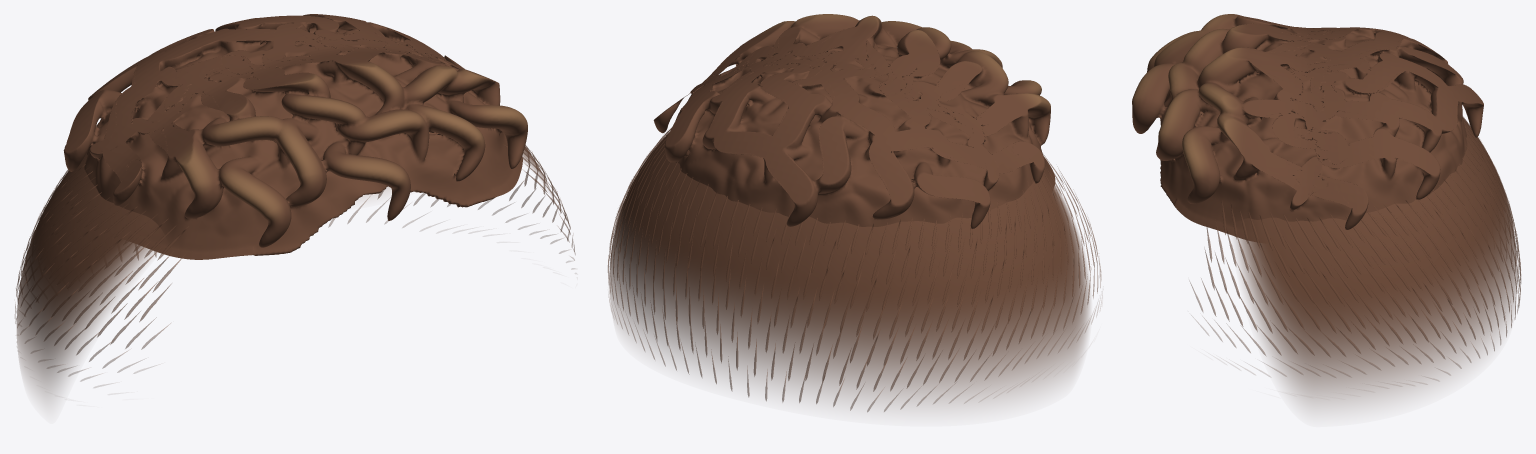
Rendered from Masculine-curly-top-pashmina259-hair-ombre.glb.
3 renders of one model, left to right at view 1: azimuth 30°, elevation 25°; view 2: azimuth 150°, elevation 25°; view 3: azimuth 270°, elevation 25°, orthographic. The views are drawn at different scales.
Parts seen in each view (by area): view 1: 226 hair / Hair252 / sculpted curl groups, 226 hair / Hair258 / smooth side fade, 226 hair / Hair259 / directional fade marks214; view 2: 226 hair / Hair258 / smooth side fade, 226 hair / Hair252 / sculpted curl groups, 226 hair / Hair259 / directional fade marks214; view 3: 226 hair / Hair252 / sculpted curl groups, 226 hair / Hair258 / smooth side fade, 226 hair / Hair259 / directional fade marks214.
Part boxes in pixels (x1,y1,x2,y2): 226 hair / Hair252 / sculpted curl groups: [63, 14, 527, 259]; 226 hair / Hair258 / smooth side fade: [17, 147, 554, 400]; 226 hair / Hair259 / directional fade marks214: [15, 139, 576, 387]; 226 hair / Hair258 / smooth side fade: [609, 132, 1089, 406]; 226 hair / Hair252 / sculpted curl groups: [653, 14, 1055, 228]; 226 hair / Hair259 / directional fade marks214: [608, 127, 1102, 411]; 226 hair / Hair252 / sculpted curl groups: [1132, 14, 1483, 241]; 226 hair / Hair258 / smooth side fade: [1233, 118, 1517, 408]; 226 hair / Hair259 / directional fade marks214: [1190, 116, 1521, 384].
Bounding box in the file's own units: 0.9743 × 0.6388 × 0.7572.
